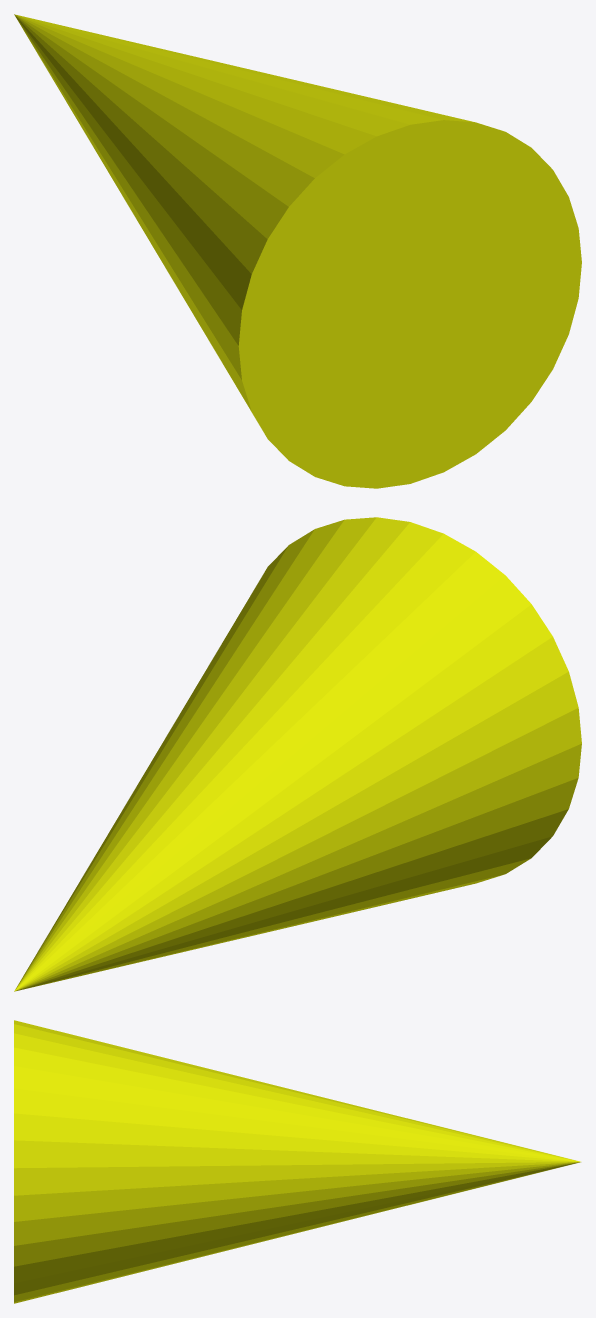
The model's file is Combustion.fbx.
3 views of the same model, one above another, from view 1: azimuth 30°, elevation 25°; view 2: azimuth 150°, elevation 25°; view 3: azimuth 270°, elevation 25° (orthographic). The views are drawn at different scales.
Parts seen in each view (by area): view 1: Combustion; view 2: Combustion; view 3: Combustion.
Part boxes in pixels (x1,y1,x2,y2): Combustion: [14, 14, 581, 488]; Combustion: [14, 517, 581, 991]; Combustion: [14, 1020, 580, 1303].
Bounding box in the file's own units: 100 × 100 × 200.
